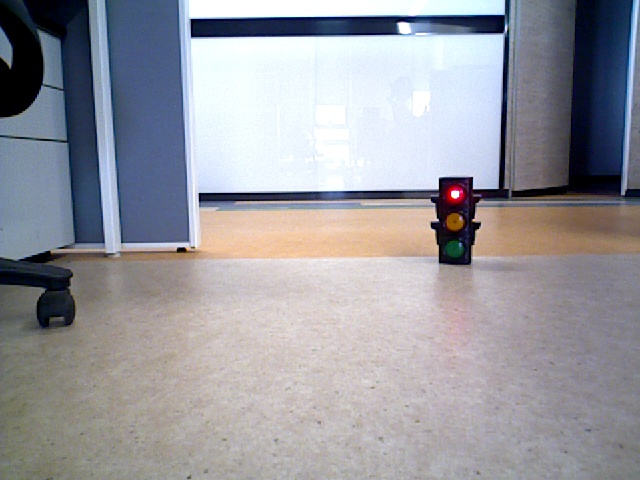red: (438, 176, 466, 261)
